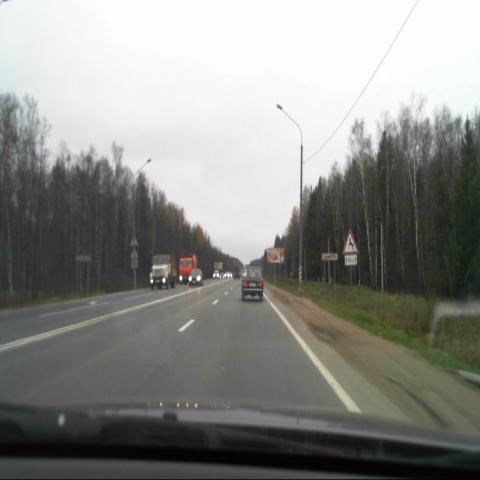1_27: (342, 229, 358, 254)
